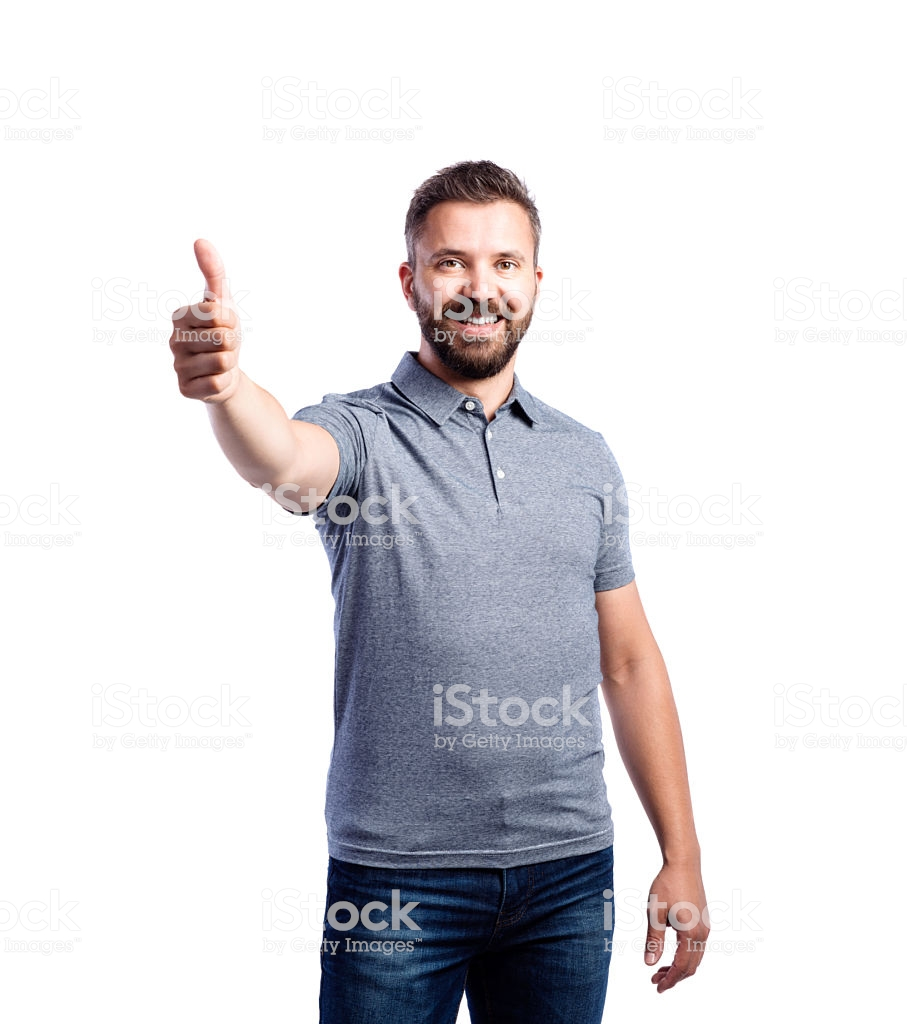thumbsup: (167, 236, 242, 406)
